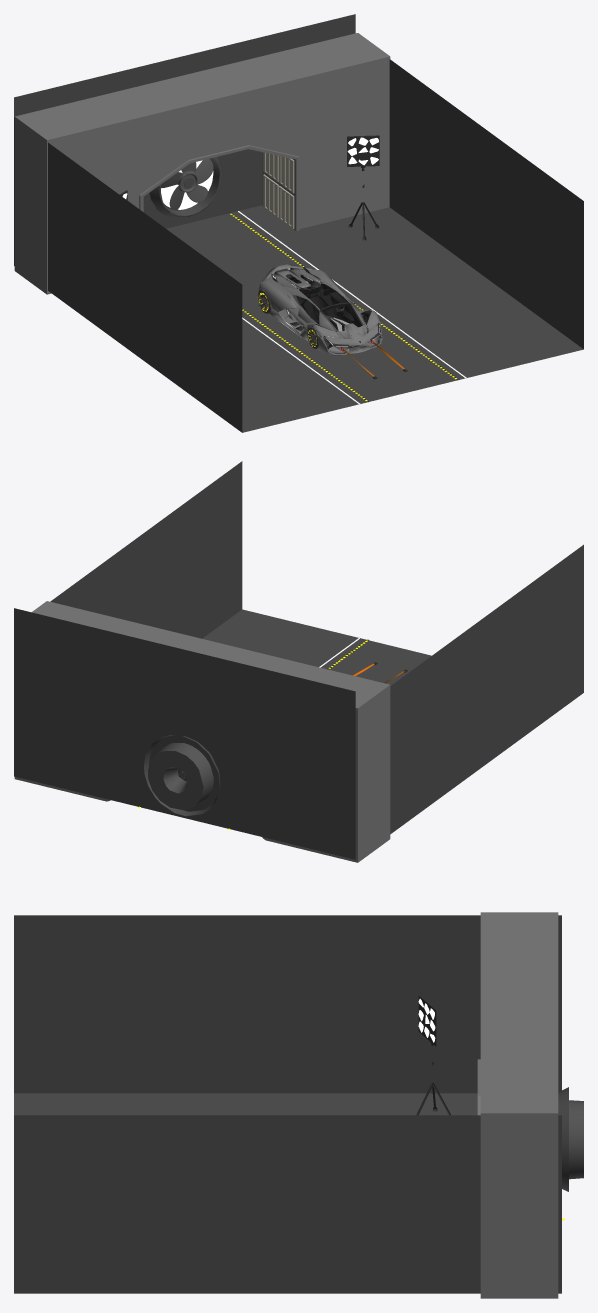
File: 004-free-lamborghini-terzo-millennio-wind-tunnel_card.glb
3 renders of one model, top to bottom at view 1: azimuth 30°, elevation 25°; view 2: azimuth 150°, elevation 25°; view 3: azimuth 270°, elevation 25°, orthographic. The views are drawn at different scales.
Parts seen in each view (by area): view 1: Sol_0, Fond_1, chassis_carpaint_LOD2_51, Grilles_2, Circle_4, glass_glass_LOD2_96, chassis_details_LOD2_53, Elice_5, Plane.002_144, chassis_carpaint02_LOD2_48, Plane_6, glass_detachable_glass_LOD2_98; view 2: Sol_0, Fond_1, Circle_4; view 3: Sol_0, Fond_1, Circle_4, Plane.002_144.
Part boxes in pixels (x1,y1,x2,y2): Sol_0: (14,14,583,432); Fond_1: (14,33,390,294); chassis_carpaint_LOD2_51: (257,268,382,355); Grilles_2: (249,149,294,228); Circle_4: (149,157,221,217); glass_glass_LOD2_96: (299,283,380,346); chassis_details_LOD2_53: (272,268,380,351); Elice_5: (161,159,213,210); Plane.002_144: (119,135,379,240); chassis_carpaint02_LOD2_48: (264,280,381,355); Plane_6: (230,213,458,401); glass_detachable_glass_LOD2_98: (286,274,348,323); Sol_0: (14,461,583,859); Fond_1: (14,601,390,862); Circle_4: (144,734,220,816); Sol_0: (14,915,561,1293); Fond_1: (477,912,558,1298); Circle_4: (558,1087,583,1191); Plane.002_144: (416,995,450,1115).
Bounding box in the file's own units: 8.72 × 4.18 × 10.44.
Materials: 28 (2 with a texture image).
